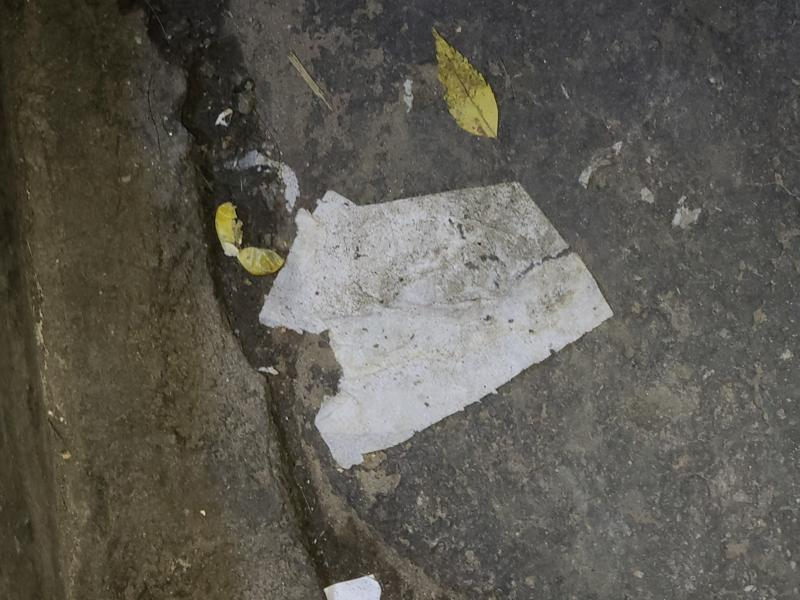papel: (259, 183, 612, 472)
